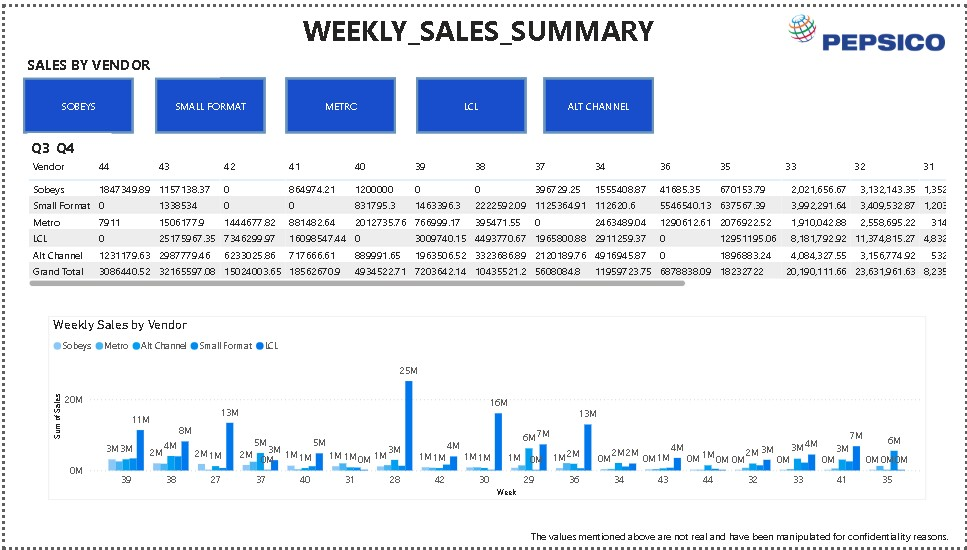

The page's visual inventory and layout, read from the dashboard file:
{"tool":"powerbi","page":{"name":"Weekly_Summary","canvas":[1280,720],"ordinal":0},"visuals":[{"type":"actionButton","box":[24.3,94.9,147.3,74.5],"z":0},{"type":"actionButton","box":[199.2,94.9,147.3,74.5],"z":1000},{"type":"actionButton","box":[374,94.9,147.3,74.5],"z":2000},{"type":"actionButton","box":[547.3,94.9,147.3,74.5],"z":3000},{"type":"actionButton","box":[718.9,94.9,147.3,74.5],"z":4000},{"type":"textbox","box":[30,168,112,42],"z":5000},{"type":"textbox","box":[391.4,0,495.7,68.6],"z":6000},{"type":"tableEx","fields":{"Values":["Summary  - Week Wise.Month","Summary  - Week Wise.(Multiple Items)","Summary  - Week Wise.Column3","Summary  - Week Wise.Column4","Summary  - Week Wise.Column5","Summary  - Week Wise.Column6","Summary  - Week Wise.Column7","Summary  - Week Wise.Column8","Summary  - Week Wise.Column9","Summary  - Week Wise.Column12","Summary  - Week Wise.Column10","Summary  - Week Wise.Column11"]},"box":[26,196,1234,182],"z":7000},{"type":"clusteredColumnChart","title":"Weekly Sales by Vendor","fields":{"Category":["Table 1 (Sheet1).Week"],"Y":["Sum(Table 1 (Sheet1).Sobeys)","Sum(Table 1 (Sheet1) (3).Metro)","Sum(Table 1 (Sheet1) (5).Alt Channel)","Sum(Table 1 (Sheet1) (2).Small Format)","Sum(Table 1 (Sheet1) (4).LCL)"]},"box":[58.3,411.7,1170,245],"z":8000},{"type":"tableEx","fields":{"Values":["Summary  - Week Wise.Month","Summary  - Week Wise.(Multiple Items)","Summary  - Week Wise.Column3","Summary  - Week Wise.Column4","Summary  - Week Wise.Column5","Summary  - Week Wise.Column6","Summary  - Week Wise.Column7","Summary  - Week Wise.Column8","Summary  - Week Wise.Column9","Summary  - Week Wise.Column12","Summary  - Week Wise.Column10","Summary  - Week Wise.Column11"]},"box":[26.7,196.7,1233.3,181.7],"z":9000},{"type":"textbox","box":[24,58,262,36],"z":15000},{"type":"image","box":[1018.3,0,261.7,68.3],"z":16000},{"type":"textbox","box":[695,690,585,30],"z":17000}]}

Visuals, with their boxes in screenshot pixels (x1, y1, x2, y2), scaled from the page's 1280x720 canvas onto the 967x550 screenshot:
actionButton: [18,72,130,129]
actionButton: [150,72,262,129]
actionButton: [283,72,394,129]
actionButton: [413,72,525,129]
actionButton: [543,72,654,129]
textbox: [23,128,107,160]
textbox: [296,0,670,52]
tableEx - Summary  - Week Wise.Month x Summary  - Week Wise.(Multiple Items): [20,150,952,289]
"Weekly Sales by Vendor" clusteredColumnChart: [44,314,928,502]
tableEx - Summary  - Week Wise.Month x Summary  - Week Wise.(Multiple Items): [20,150,952,289]
textbox: [18,44,216,72]
image: [769,0,966,52]
textbox: [525,527,966,549]
